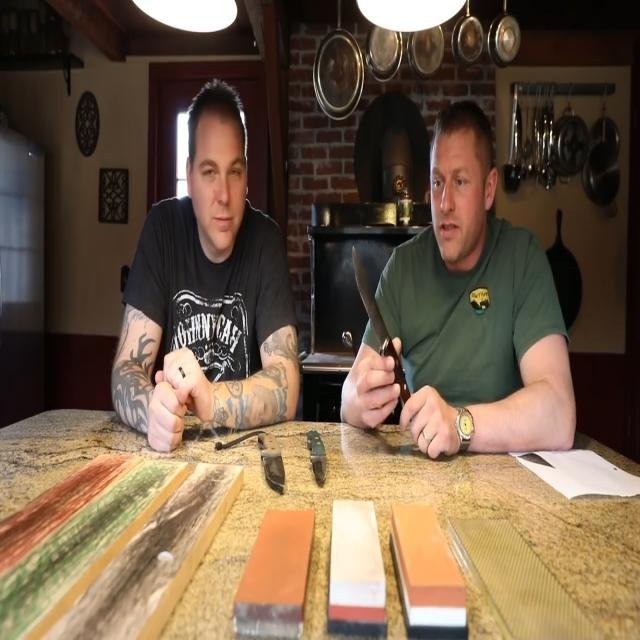knife: (351, 242, 421, 404), (258, 432, 293, 502), (306, 427, 332, 490)
